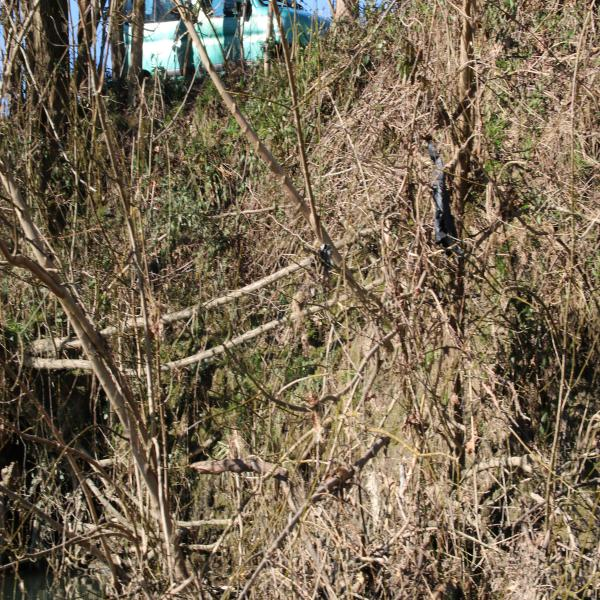fragments: (425, 134, 466, 261), (310, 242, 329, 278)
